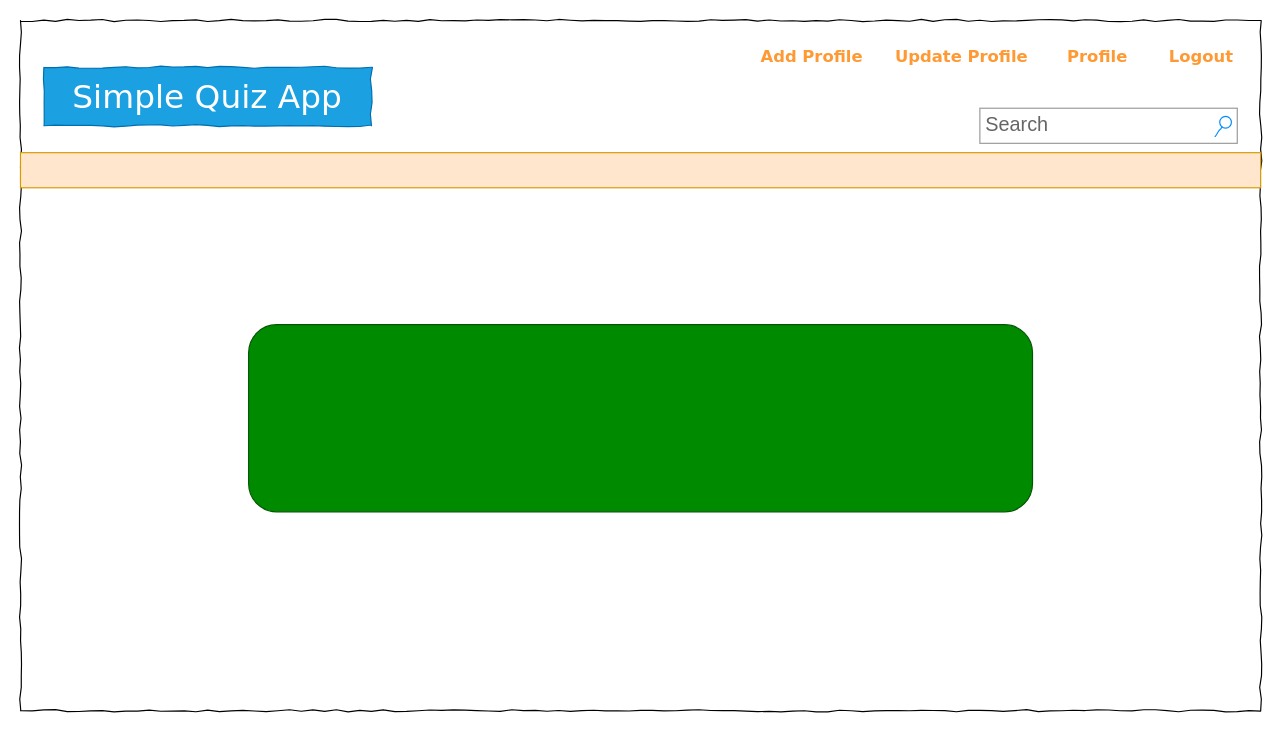
This 1281x731 diagram has some shape labels left out. Each missing label, with the centre of its shape:
Dashboard: the point at 640,170
Feedback: the point at 640,418
